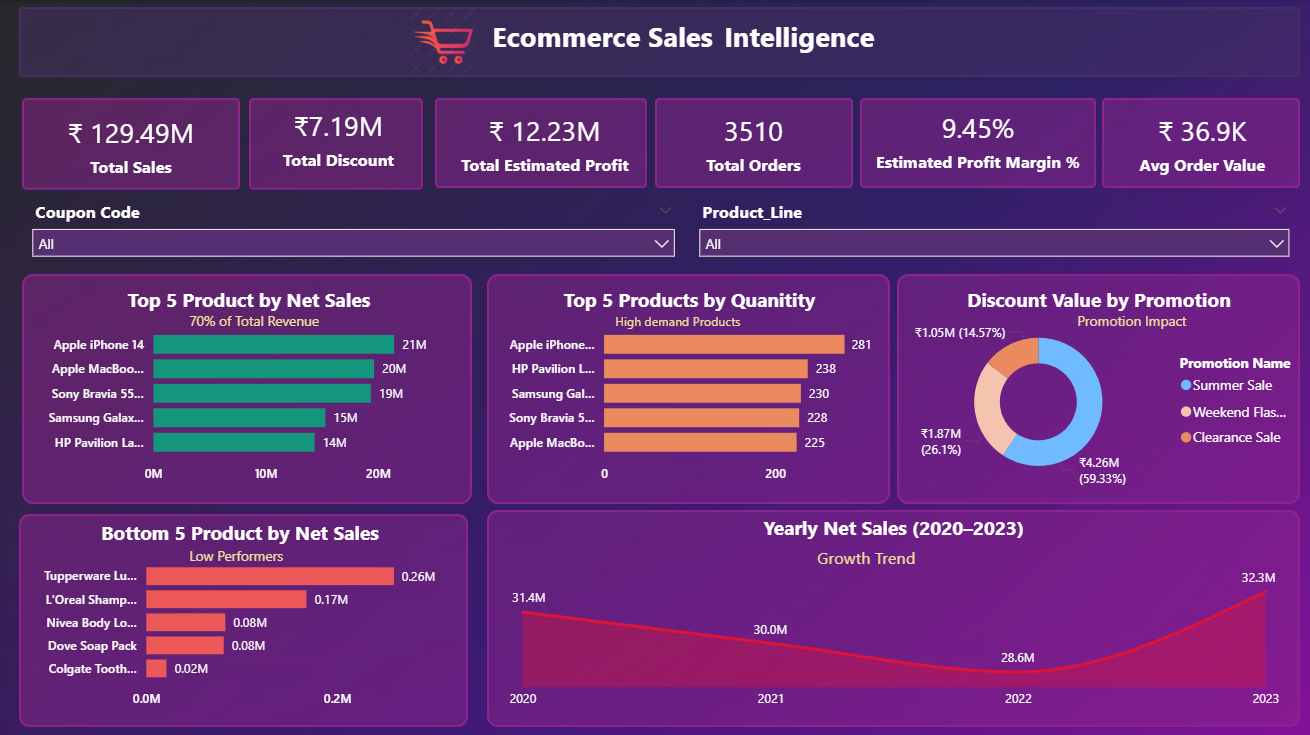

Layout of this report page (visuals, bound fields, positions):
{"tool":"powerbi","page":{"name":"Summary","canvas":[1280,720],"ordinal":0},"visuals":[{"type":"shape","box":[426,95.3,206.2,87.5],"z":0},{"type":"shape","box":[21.4,6.8,1246,68.1],"z":1000},{"type":"textbox","box":[476.6,11.7,608.9,63.2],"z":2000},{"type":"shape","box":[24.3,95.3,212,89.5],"z":3000},{"type":"card","fields":{"Values":["Measures Table.Total Sales"]},"box":[55.4,88.5,149.8,103.1],"z":4000},{"type":"shape","box":[24.3,266.5,437.7,223.7],"z":5000},{"type":"barChart","title":"Top 5 Product by Net Sales ","fields":{"Category":["Product.Product_Name"],"Y":["Sum(Fact_Table.Net_Sales)"]},"box":[32.1,278.2,426,200.4],"z":6000},{"type":"card","fields":{"Values":["Sum(Fact_Table.Profit)"]},"box":[426,86.6,214,103.1],"z":7000},{"type":"shape","box":[245.1,95.3,169.2,89.5],"z":8000},{"type":"card","fields":{"Values":["Sum(Fact_Table.Discount_Value)"]},"box":[270.4,81.7,123.5,103.1],"z":9000},{"type":"shape","box":[640,95.3,192.6,87.5],"z":10000},{"type":"card","fields":{"Values":["Measures Table.Total Orders"]},"box":[650.7,101.2,170.2,73.9],"z":11000},{"type":"shape","box":[839.4,95.3,229.5,87.5],"z":12000},{"type":"card","fields":{"Values":["Fact_Table.Estimated Profit Margin %"]},"box":[846.2,96.3,215.9,78.8],"z":13000},{"type":"shape","box":[1074.8,95.3,192.6,87.5],"z":14000},{"type":"card","fields":{"Values":["Measures Table.AOV"]},"box":[1077.7,101.2,189.7,73.9],"z":15000},{"type":"shape","box":[21.4,499.9,436.7,207.2],"z":16000},{"type":"barChart","title":"Bottom 5 Product by Net Sales","fields":{"Category":["Product.Product_Name"],"Y":["Sum(Fact_Table.Net_Sales)"]},"box":[27.2,504.8,418.2,192.6],"z":17000},{"type":"shape","box":[476.6,266.5,392,223.7],"z":18000},{"type":"barChart","title":"Top 5 Products by Quanitity","fields":{"Category":["Product.Product_Name"],"Y":["Sum(Fact_Table.Units_Sold)"]},"box":[481.5,278.2,384.2,200.4],"z":19000},{"type":"shape","box":[476.6,496,790.8,211.1],"z":20000},{"type":"lineChart","title":"Yearly Net Sales (2020–2023)","fields":{"Y":["Sum(Fact_Table.Net_Sales)"],"Category":["Calendar_Table.Date.Variation.Date Hierarchy.Year","Calendar_Table.Date.Variation.Date Hierarchy.Quarter","Calendar_Table.Date.Variation.Date Hierarchy.Month","Calendar_Table.Date.Variation.Date Hierarchy.Day"]},"box":[493.1,499.9,758.7,197.4],"z":21000},{"type":"shape","box":[875.4,266.5,392,223.7],"z":22000},{"type":"donutChart","title":"Discount Value by Promotion","fields":{"Category":["Promotion.Promotion_Name"],"Y":["Sum(Fact_Table.Discount_Value)"]},"box":[870.5,278.2,402.7,200.4],"z":23000},{"type":"image","box":[392.9,0,83.6,81.7],"z":24000},{"type":"slicer","fields":{"Values":["Promotion.Coupon_Code"]},"box":[24.3,189.7,644.9,72.9],"z":25000},{"type":"slicer","fields":{"Values":["Product.Product_Line"]},"box":[673.1,189.7,594.3,72.9],"z":26000},{"type":"textbox","box":[181.9,297.6,300.5,32.1],"z":27000},{"type":"textbox","box":[596.2,297.6,292.8,32.1],"z":28000},{"type":"textbox","box":[1045.6,297.6,234.4,32.1],"z":29000},{"type":"textbox","box":[181.9,526.2,126.4,32.1],"z":30000},{"type":"textbox","box":[792.7,526.2,292.8,32.1],"z":31000}]}

Visuals, with their boxes in screenshot pixels (x1, y1, x2, y2), scaled from the page's 1280x720 canvas onto the 1310x735 screenshot:
shape: x1=436, y1=97, x2=647, y2=187
shape: x1=22, y1=7, x2=1297, y2=76
textbox: x1=488, y1=12, x2=1111, y2=76
shape: x1=25, y1=97, x2=242, y2=189
card - Measures Table.Total Sales: x1=57, y1=90, x2=210, y2=196
shape: x1=25, y1=272, x2=473, y2=500
"Top 5 Product by Net Sales " barChart: x1=33, y1=284, x2=469, y2=489
card - Sum(Fact_Table.Profit): x1=436, y1=88, x2=655, y2=194
shape: x1=251, y1=97, x2=424, y2=189
card - Sum(Fact_Table.Discount_Value): x1=277, y1=83, x2=403, y2=189
shape: x1=655, y1=97, x2=852, y2=187
card - Measures Table.Total Orders: x1=666, y1=103, x2=840, y2=179
shape: x1=859, y1=97, x2=1094, y2=187
card - Fact_Table.Estimated Profit Margin %: x1=866, y1=98, x2=1087, y2=179
shape: x1=1100, y1=97, x2=1297, y2=187
card - Measures Table.AOV: x1=1103, y1=103, x2=1297, y2=179
shape: x1=22, y1=510, x2=469, y2=722
"Bottom 5 Product by Net Sales" barChart: x1=28, y1=515, x2=456, y2=712
shape: x1=488, y1=272, x2=889, y2=500
"Top 5 Products by Quanitity" barChart: x1=493, y1=284, x2=886, y2=489
shape: x1=488, y1=506, x2=1297, y2=722
"Yearly Net Sales (2020–2023)" lineChart: x1=505, y1=510, x2=1281, y2=712
shape: x1=896, y1=272, x2=1297, y2=500
"Discount Value by Promotion" donutChart: x1=891, y1=284, x2=1303, y2=489
image: x1=402, y1=0, x2=488, y2=83
slicer - Promotion.Coupon_Code: x1=25, y1=194, x2=685, y2=268
slicer - Product.Product_Line: x1=689, y1=194, x2=1297, y2=268
textbox: x1=186, y1=304, x2=494, y2=337
textbox: x1=610, y1=304, x2=910, y2=337
textbox: x1=1070, y1=304, x2=1309, y2=337
textbox: x1=186, y1=537, x2=316, y2=570
textbox: x1=811, y1=537, x2=1111, y2=570
